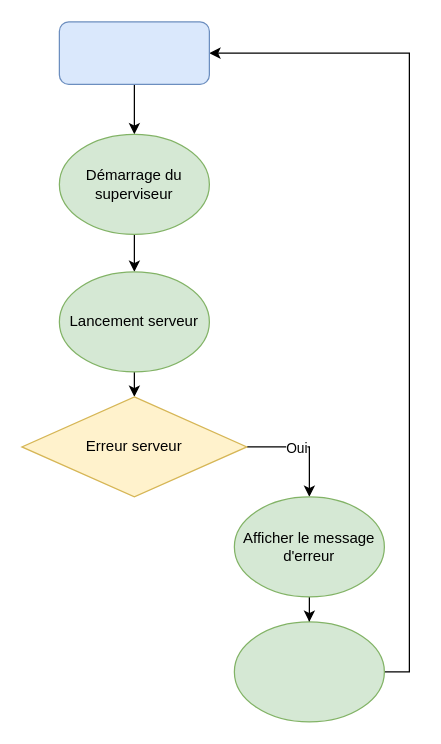
Some shapes in this 441 by 744 pixel diagram are drawn without their labels. The shapes that lost their labels are listed below. From the top down, each one's centre as x and y in pixels, then its label:
At [133,52]: "Superviseur à l’arrêt".
At [308,671]: "Arrêt du superviseur".
